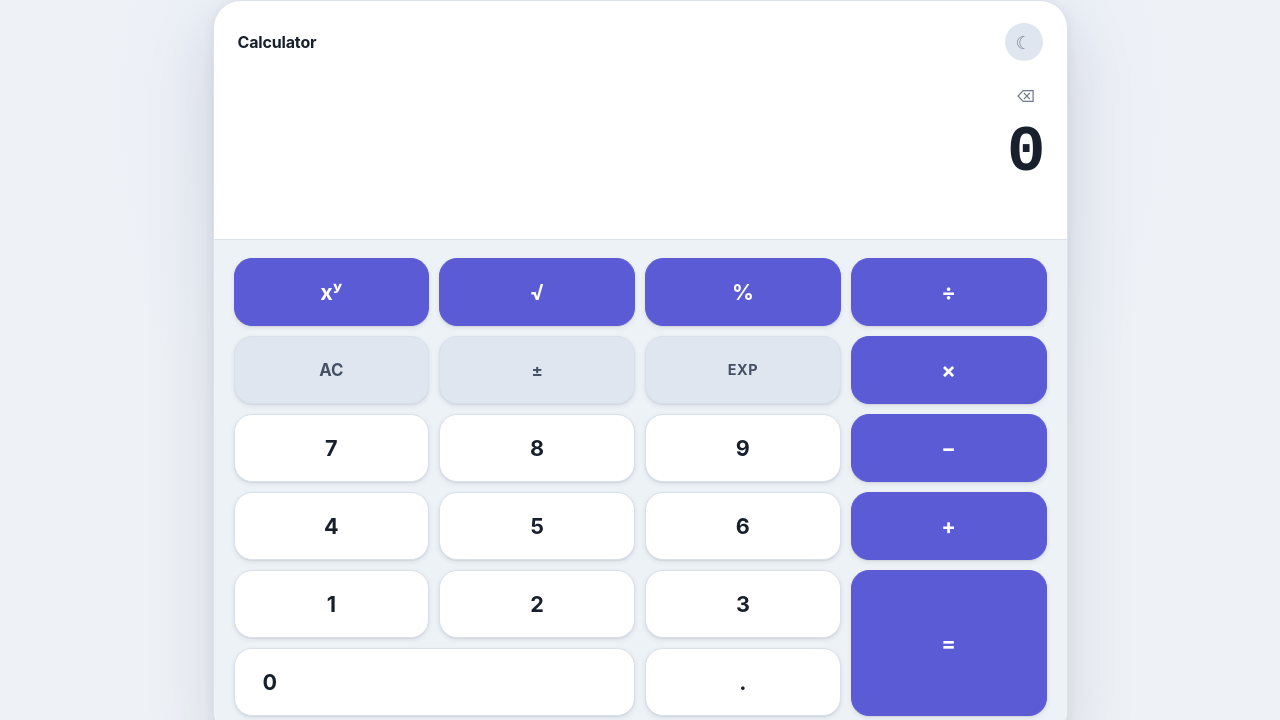
Test: Calculator › uses the backend for arithmetic and displays the result
Click the button "1" at (331, 604), box [234,570,429,638]
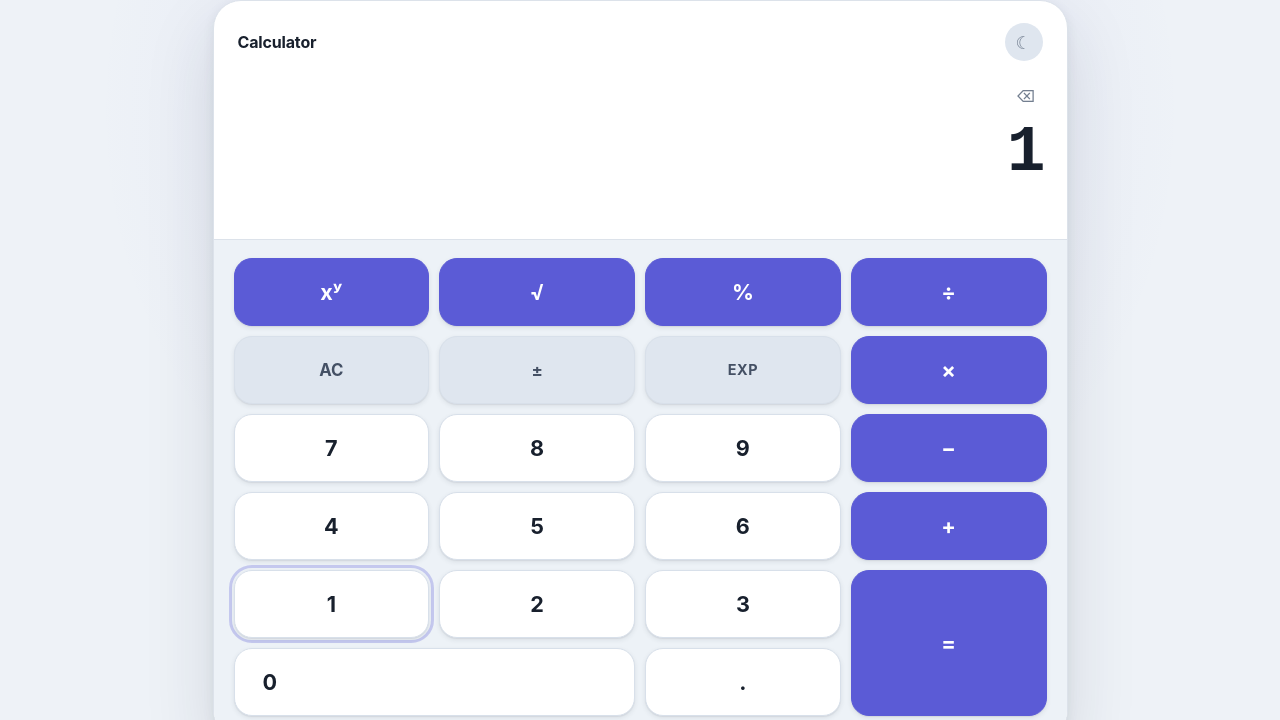
Click the button "0" at (270, 682), box [234,648,635,716]
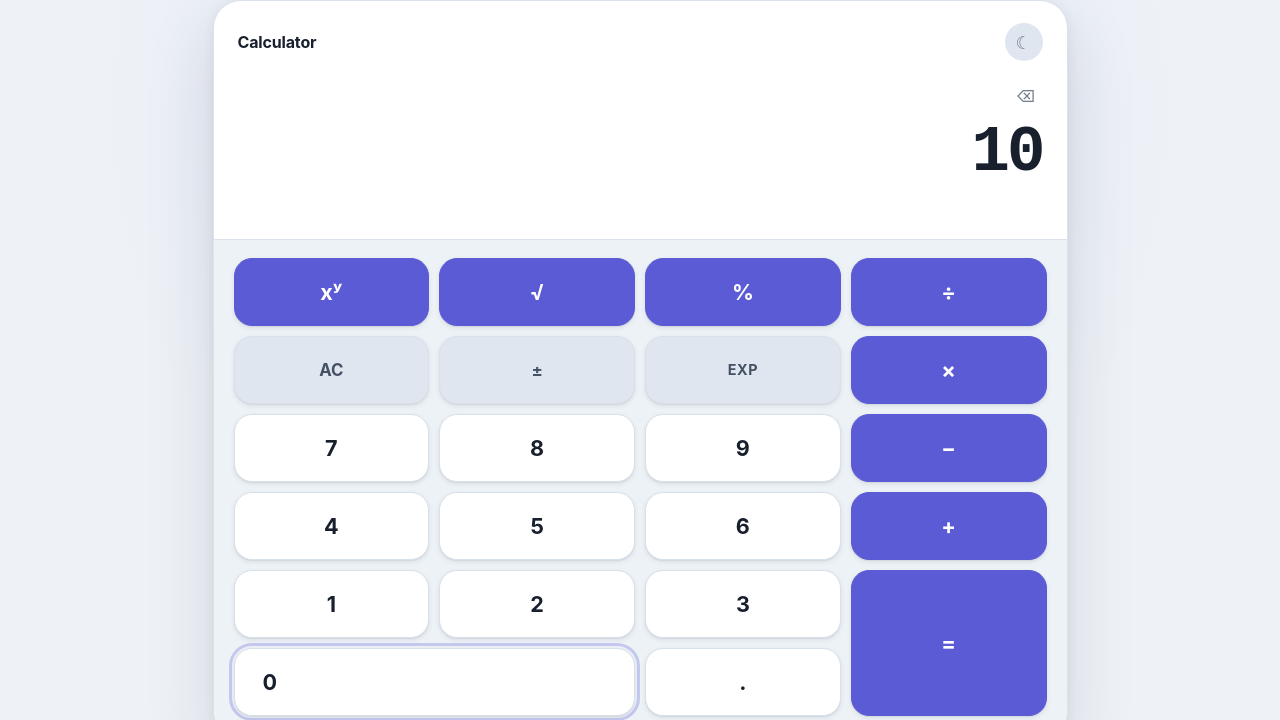
Click the button named "Add" at (949, 526), box [851,492,1047,560]
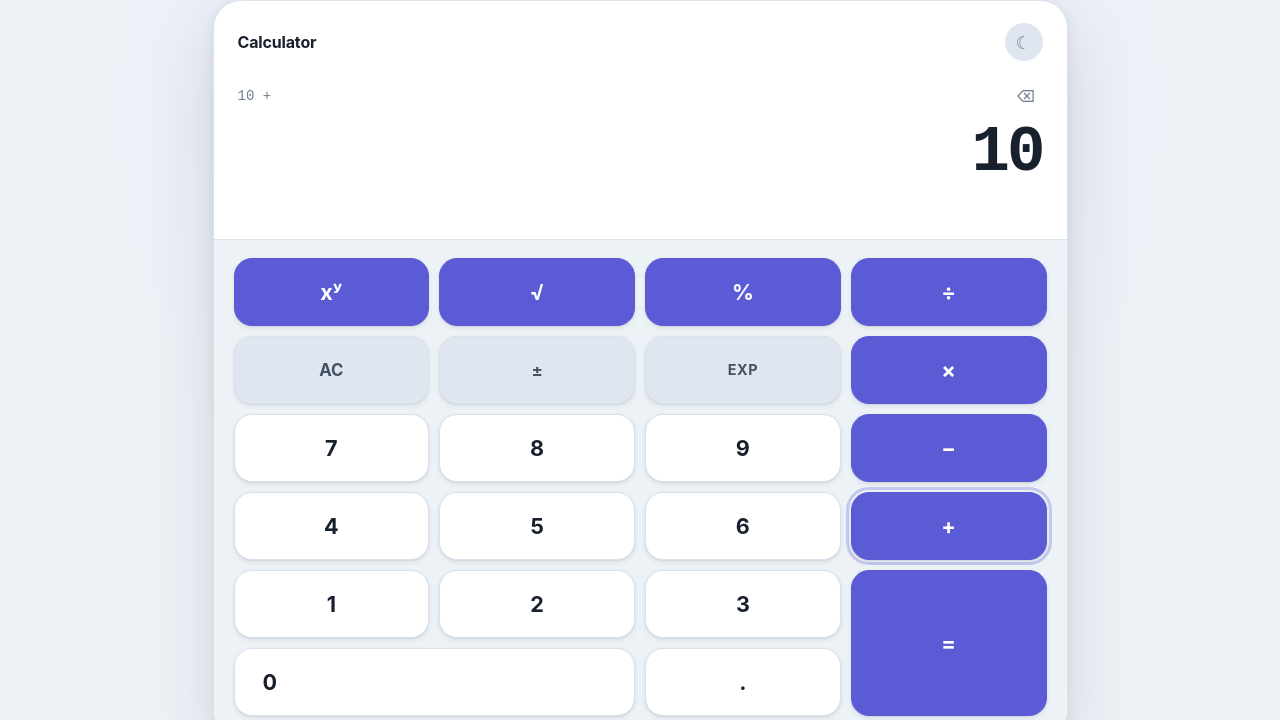
Click the button "5" at (537, 526), box [439,492,635,560]
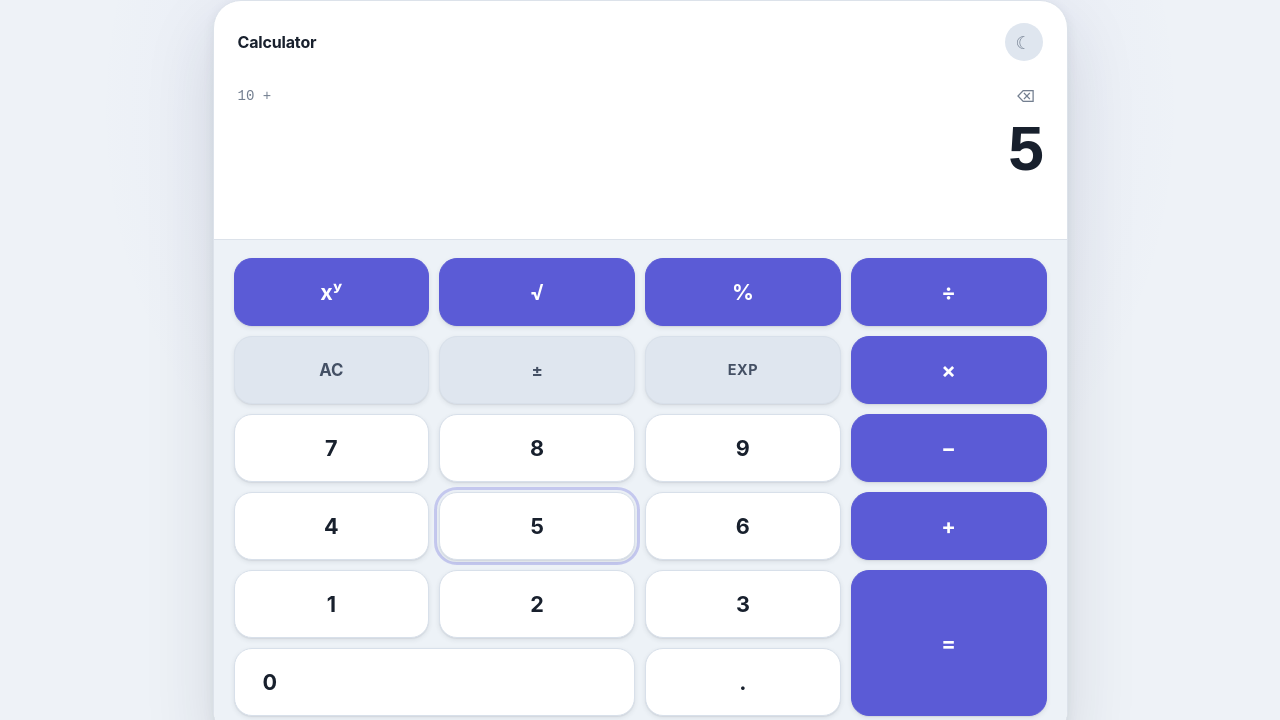
Click the button named "Equals" at (949, 643), box [851,570,1047,716]
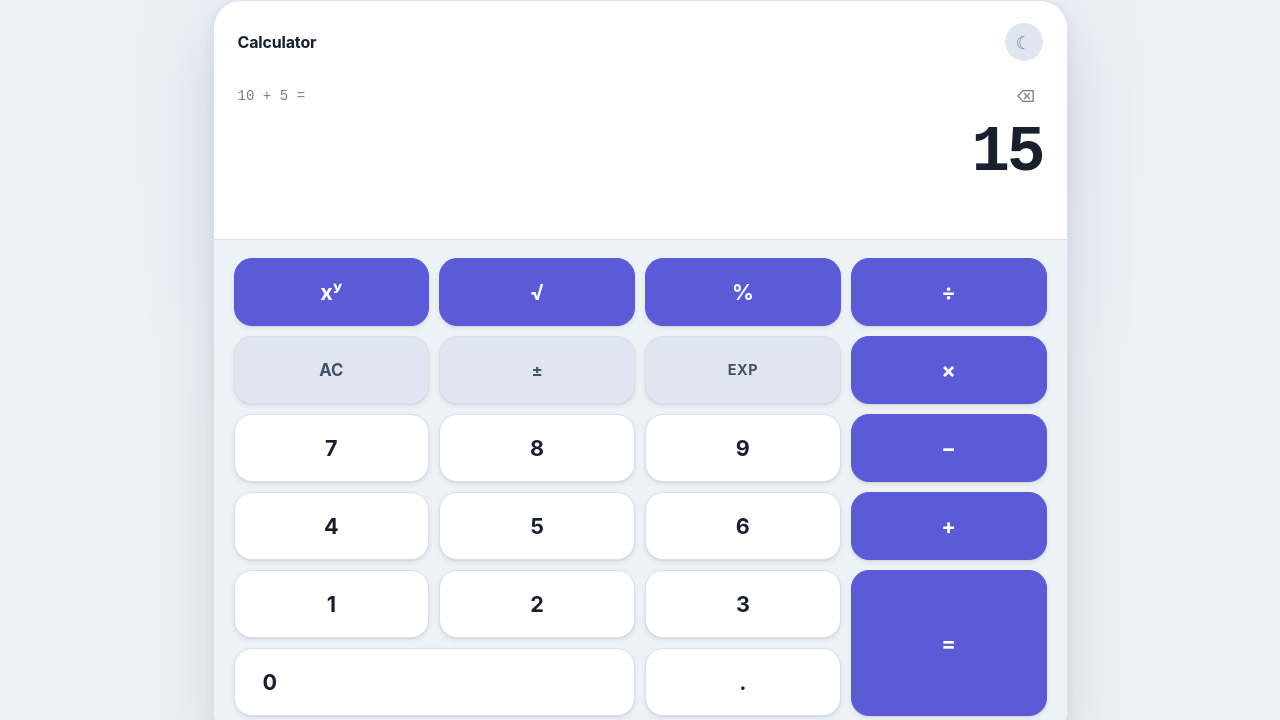
Expected: the field named "Calculator display" holds "15", [238,111,1042,193]
